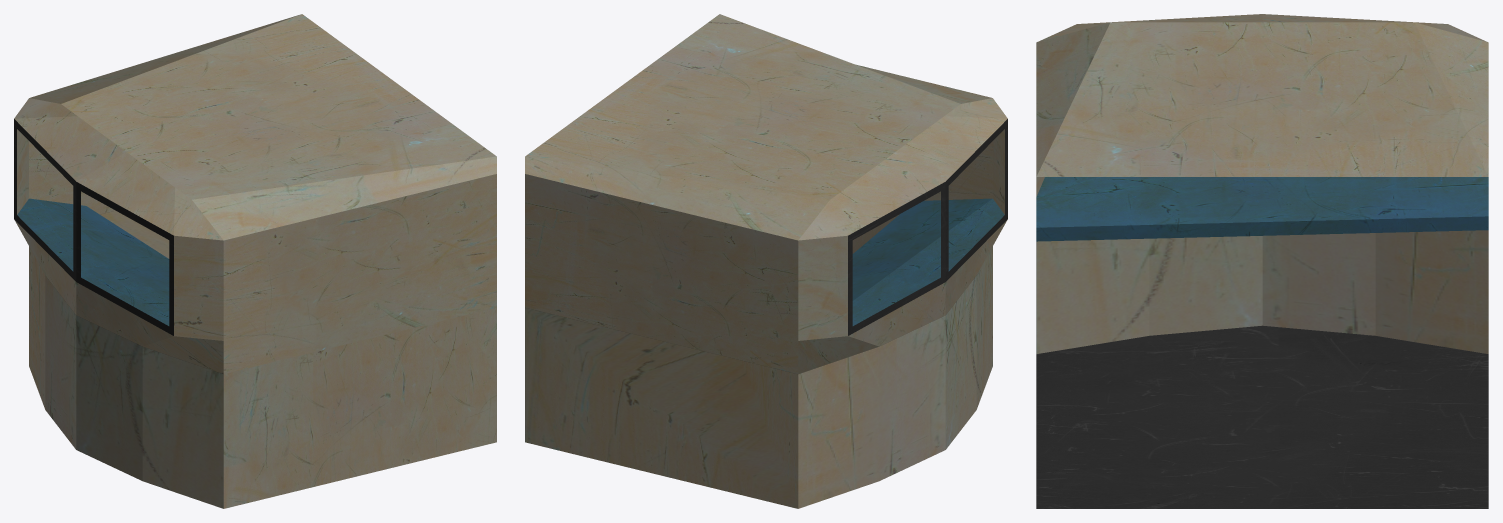
Rendered from DriversStand.obj.
3 views of the same model, side by side, from view 1: azimuth 30°, elevation 25°; view 2: azimuth 150°, elevation 25°; view 3: azimuth 270°, elevation 25° (orthographic). The views are drawn at different scales.
Visible parts, largest first — view 1: Cube_Cube.001; view 2: Cube_Cube.001; view 3: Cube_Cube.001.
Part boxes in pixels (box(x1,y1,x2,y2)): Cube_Cube.001: box(14, 14, 496, 508); Cube_Cube.001: box(525, 14, 1007, 508); Cube_Cube.001: box(1036, 14, 1488, 508).
Bounding box in the file's own units: 2.37 × 2 × 2.47.
